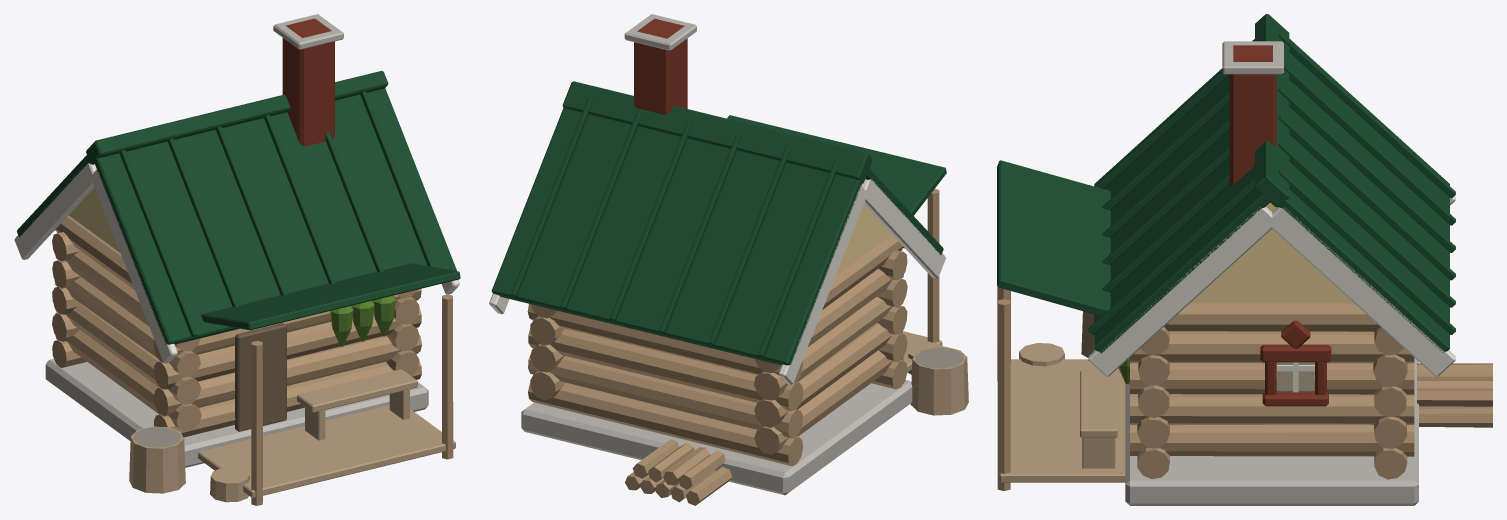
Rendered from bld_banya_e2.glb.
3 renders of one model, left to right at view 1: azimuth 30°, elevation 25°; view 2: azimuth 150°, elevation 25°; view 3: azimuth 270°, elevation 25°, orthographic. The views are drawn at different scales.
Parts seen in each view (by area): view 1: banya; view 2: banya; view 3: banya.
Boxes of the visible parts, x1,y1,x2,y2 form: banya: (14, 14, 460, 505); banya: (489, 14, 968, 505); banya: (997, 14, 1492, 505).
Size of the model in its own units: 0.9 by 0.97 by 1.05.
